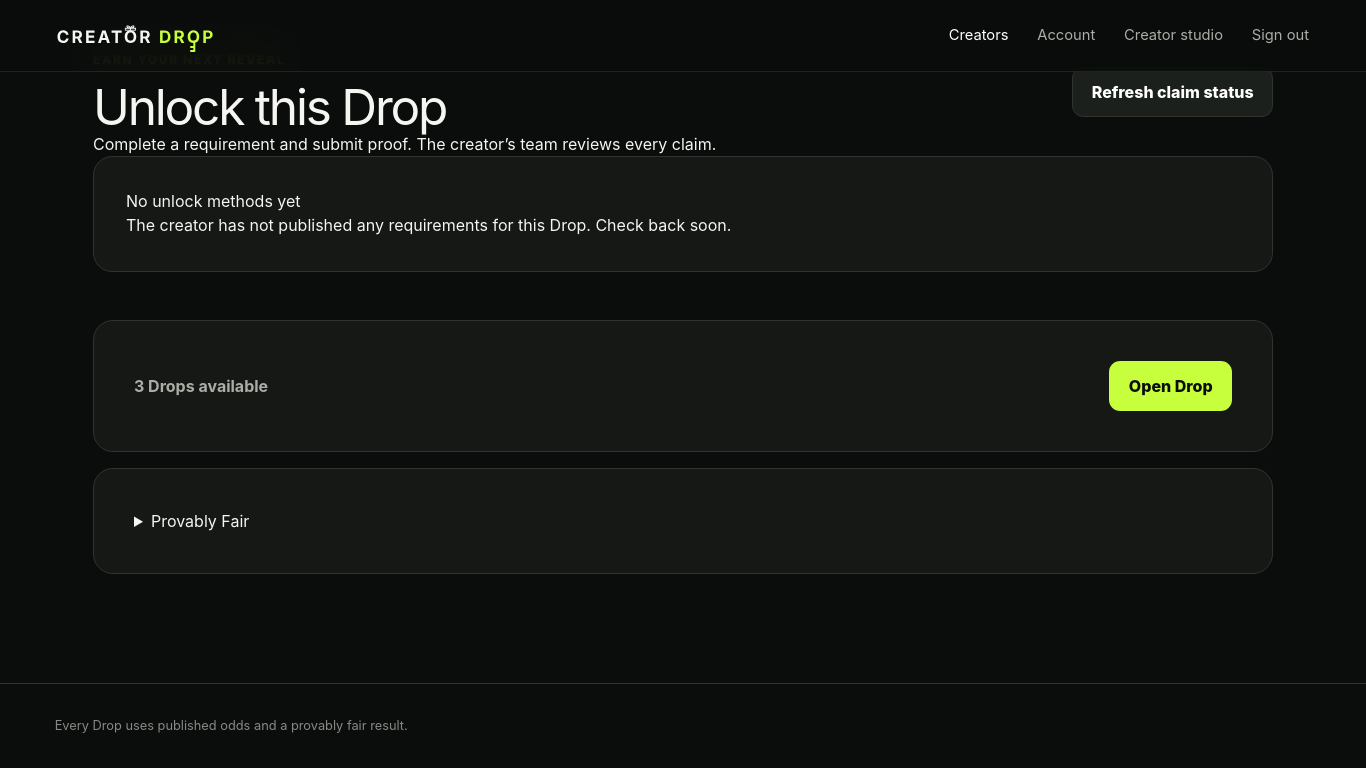
Test: R1C active fan product › collapses duplicate confirmation clicks into one opening command
The width and height of the screenshot is (1366, 768).
(page scrolled)
Click the button "Open Drop" at x=1171, y=386, box [1109,361,1232,411]
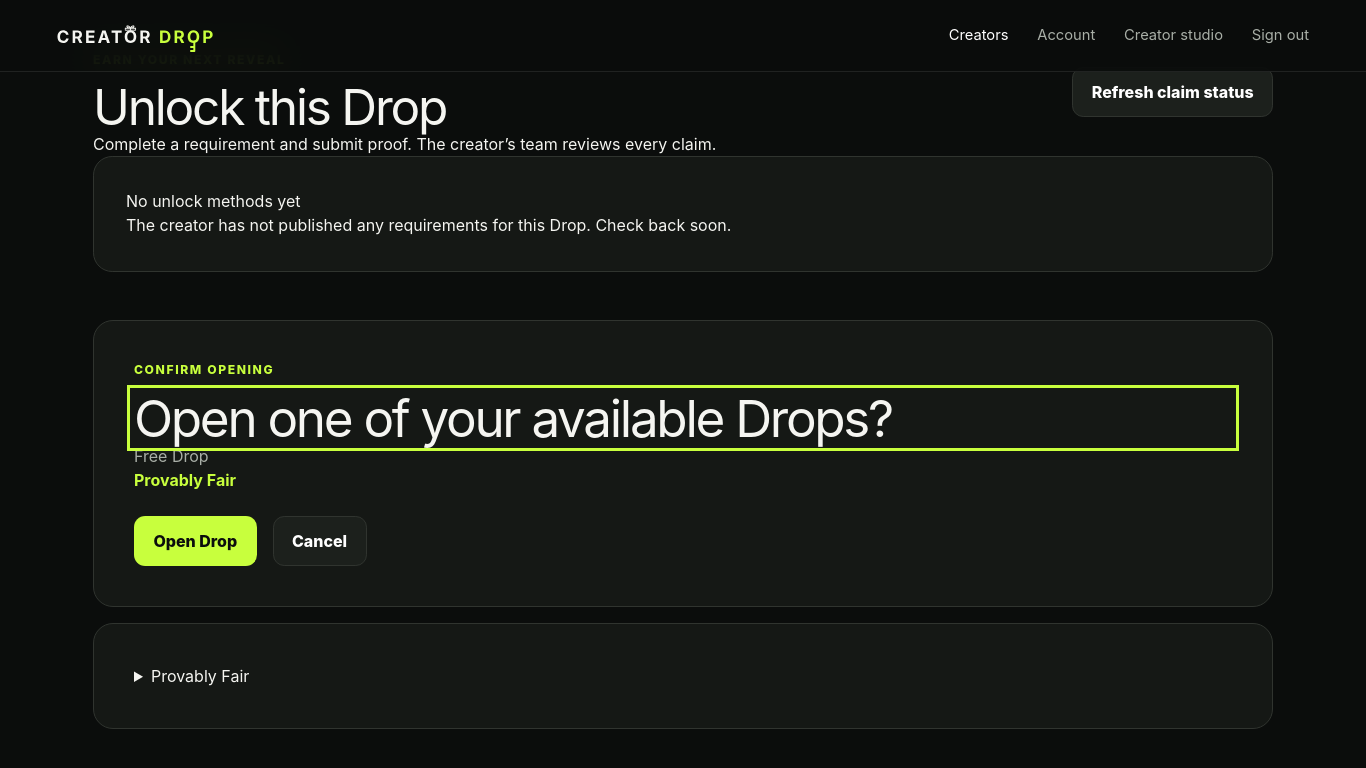
Double-click the button "Open Drop" at x=195, y=541, box [134,516,257,566]
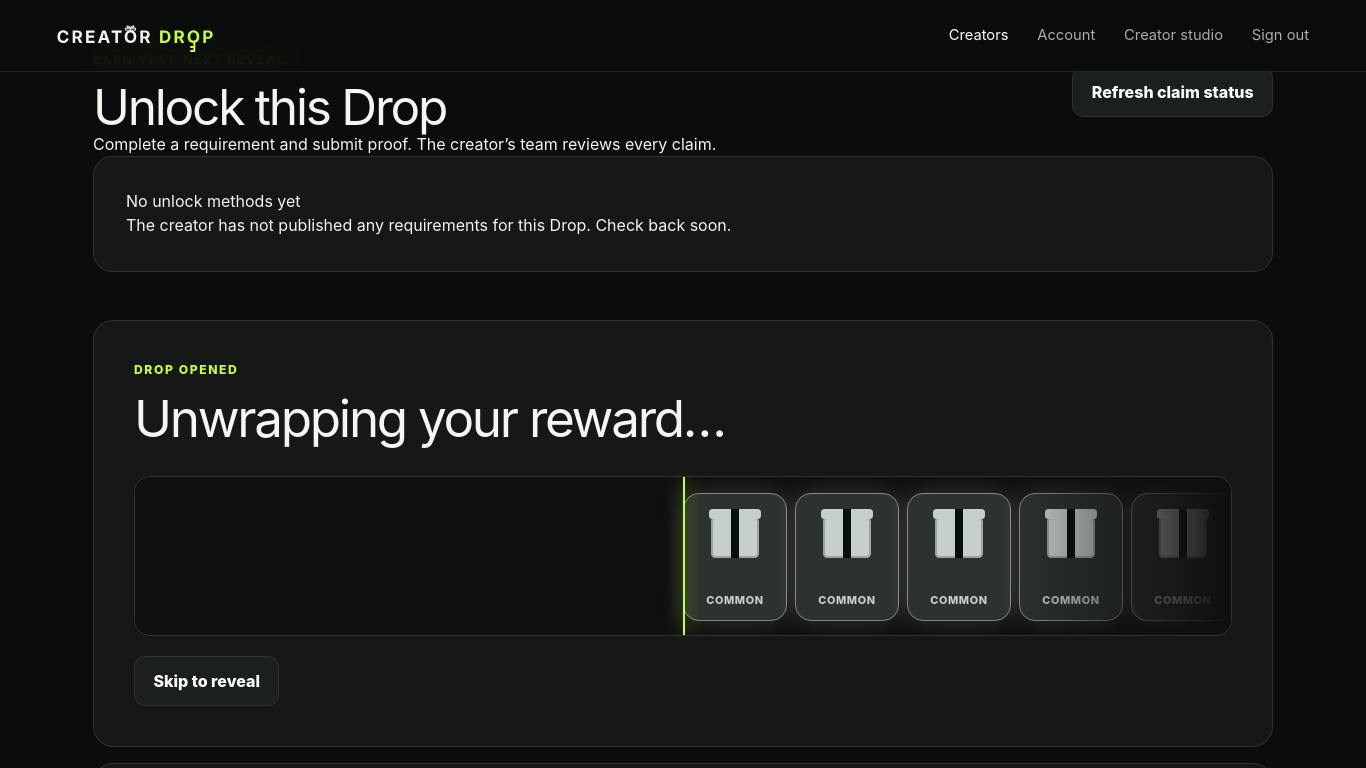
Now the heading "Unwrapping your reward…" is shown, box [134,387,725,449]
